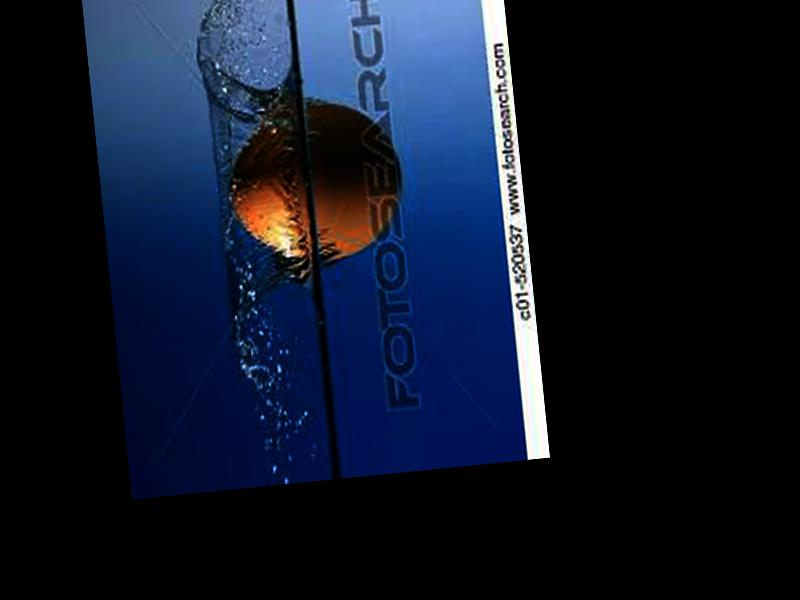Eggs: (221, 95, 406, 269)
